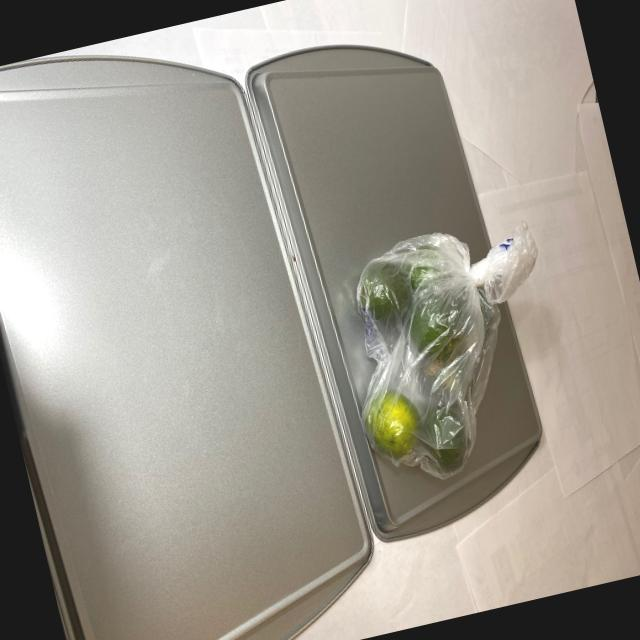lemon: (328, 218, 526, 491)
